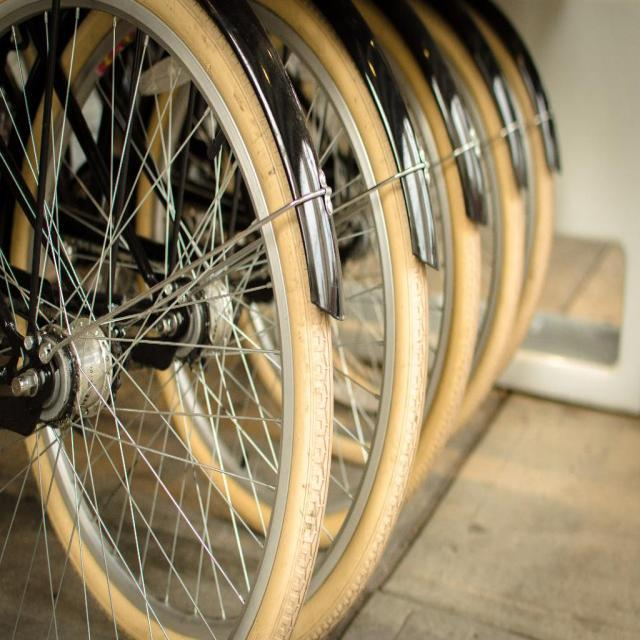car: (0, 0, 439, 639), (0, 0, 487, 557), (0, 0, 526, 469), (0, 0, 556, 419)
